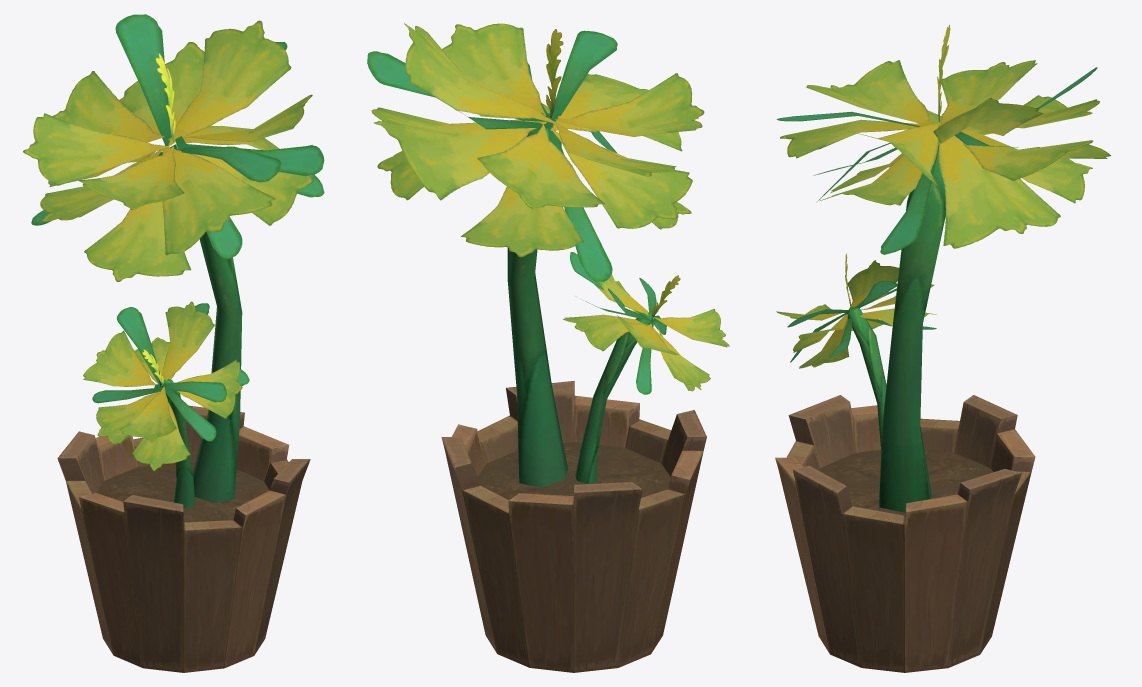
File: Homeworld_Interior_Xm_Decoration_Prop_Tpotted_01_Lod0.fbx
3 renders of one model, left to right at view 1: azimuth 30°, elevation 25°; view 2: azimuth 150°, elevation 25°; view 3: azimuth 270°, elevation 25°, orthographic. The views are drawn at different scales.
Parts seen in each view (by area): view 1: Area_Xm_Prop_DCL_Shineipenjing_04_Lod0; view 2: Area_Xm_Prop_DCL_Shineipenjing_04_Lod0; view 3: Area_Xm_Prop_DCL_Shineipenjing_04_Lod0.
Part boxes in pixels (x1=…): Area_Xm_Prop_DCL_Shineipenjing_04_Lod0: x1=23, y1=14, x2=324, y2=672; Area_Xm_Prop_DCL_Shineipenjing_04_Lod0: x1=367, y1=23, x2=729, y2=672; Area_Xm_Prop_DCL_Shineipenjing_04_Lod0: x1=775, y1=24, x2=1110, y2=672.
Size of the model in its own units: 0.8166 by 1.64 by 0.8689.
